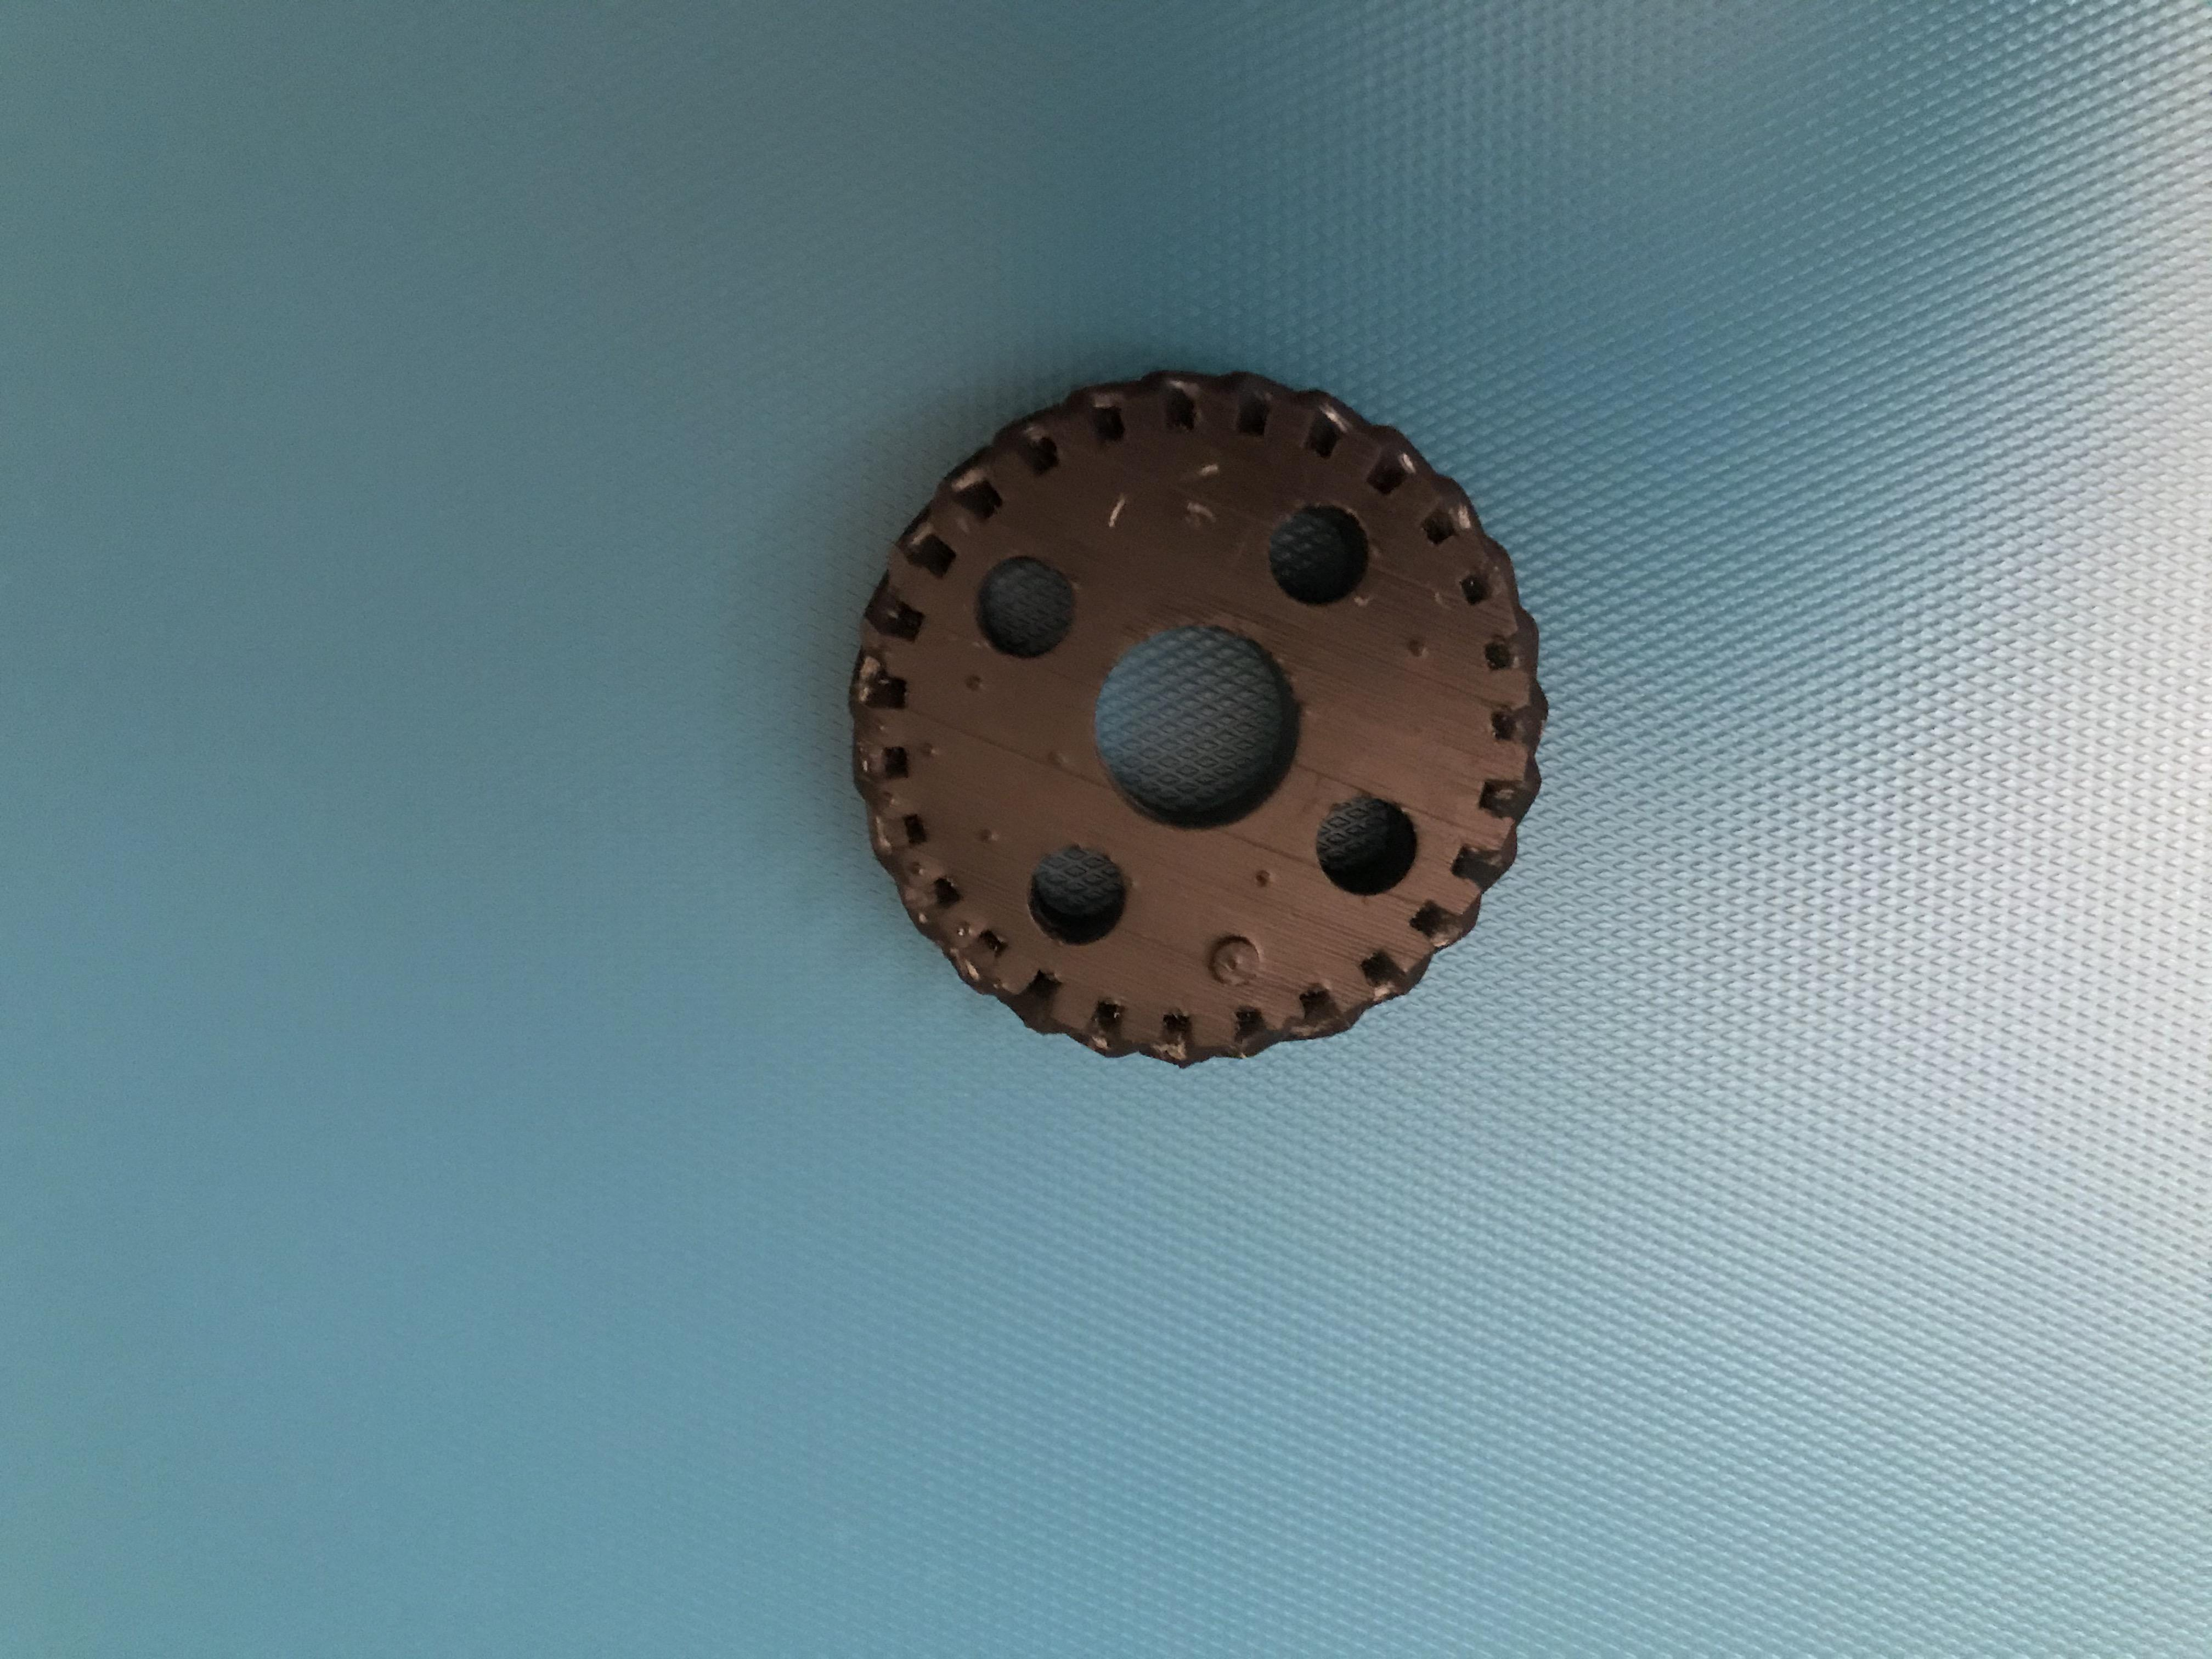Wheel: (843, 361, 1554, 1070)
